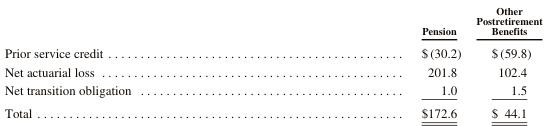table: (3, 3, 541, 119)
table column: (3, 3, 275, 119), (275, 3, 468, 119), (468, 3, 541, 119)
table column header: (3, 3, 541, 41)
table row: (3, 3, 541, 41), (3, 41, 541, 62), (3, 80, 541, 100), (3, 100, 541, 119), (3, 62, 541, 80)
